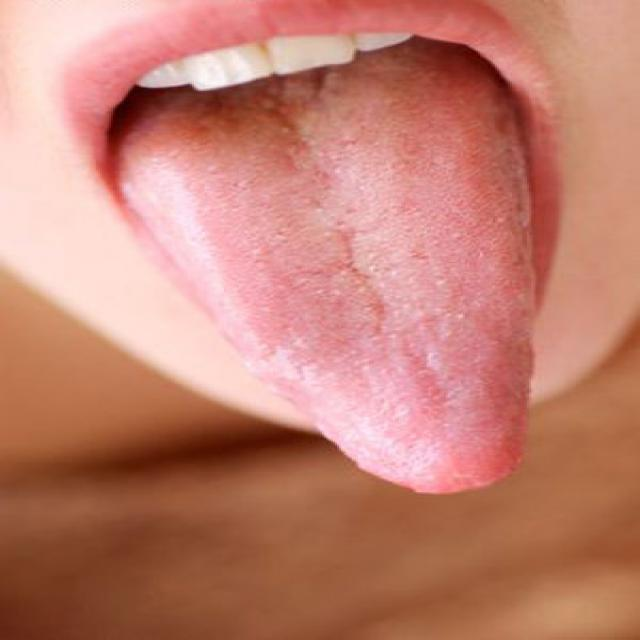baitaishe: (118, 68, 536, 494)
